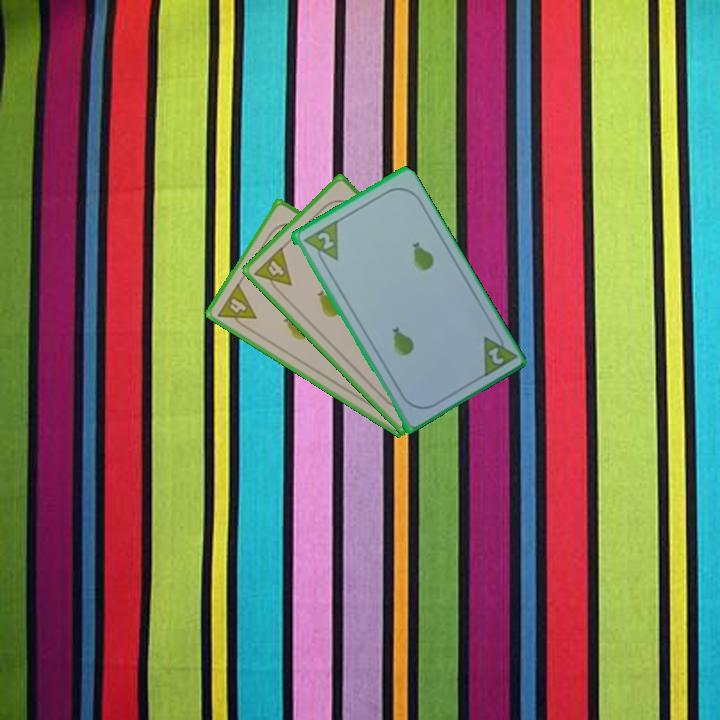2p: (478, 326, 518, 380), (313, 228, 336, 253)
4p: (250, 243, 295, 298), (214, 279, 259, 333)
